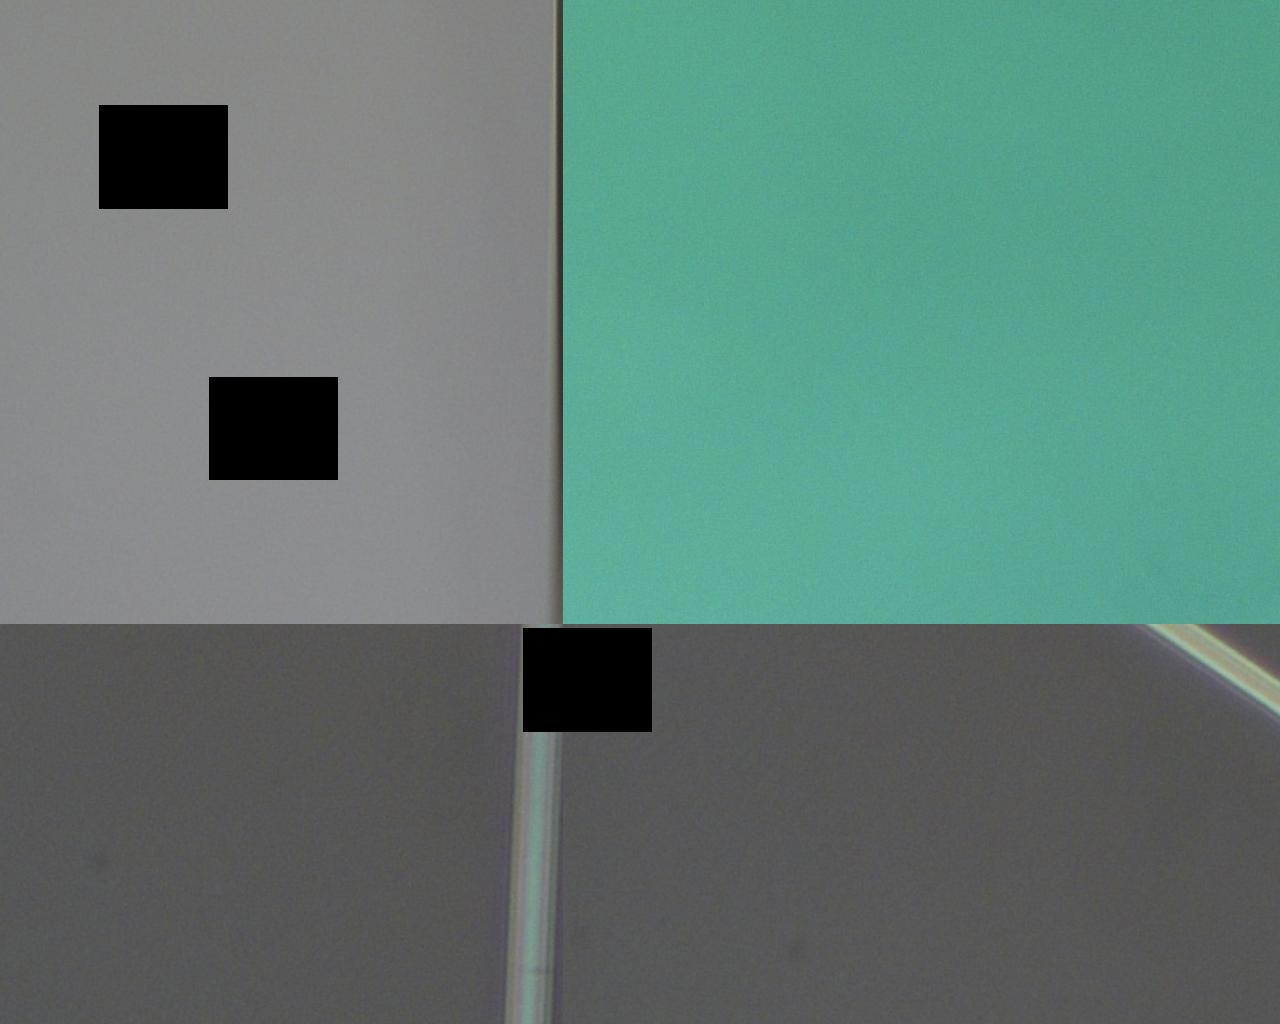fiber: (793, 94, 1280, 235), (0, 211, 779, 230)
